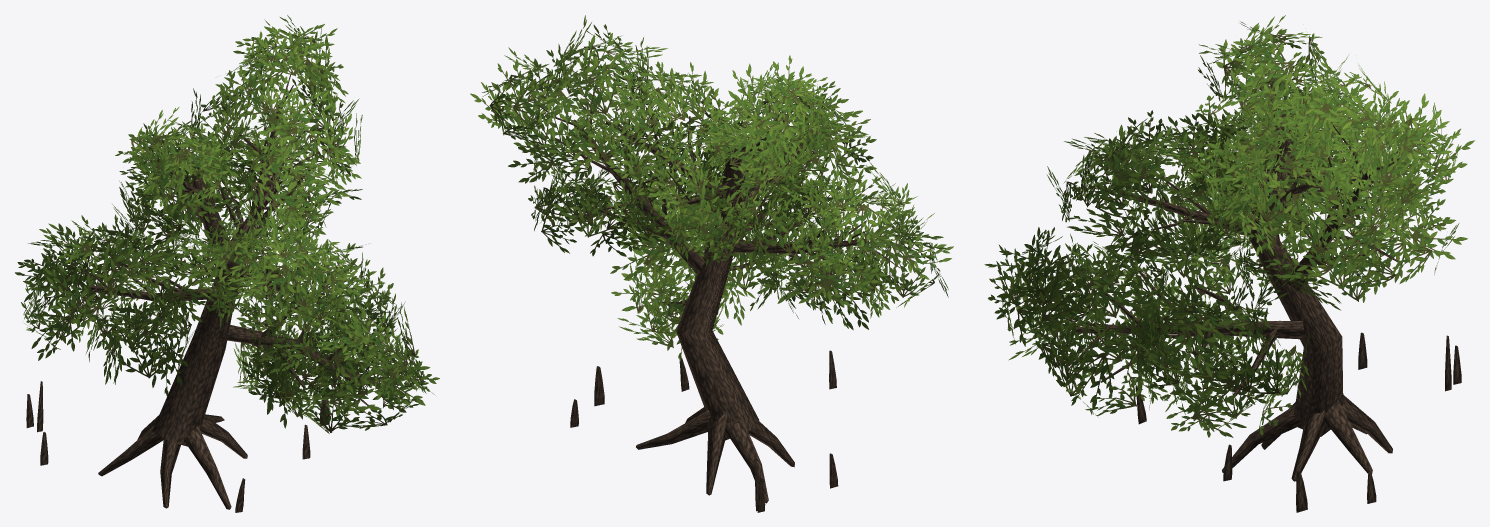
The model's file is Oak_04.lod2.glb.
3 views of the same model, side by side, from view 1: azimuth 30°, elevation 25°; view 2: azimuth 150°, elevation 25°; view 3: azimuth 270°, elevation 25° (orthographic). The views are drawn at different scales.
Parts seen in each view (by area): view 1: Leaves, Trunk; view 2: Leaves, Trunk; view 3: Leaves, Trunk.
Boxes of the visible parts, x1,y1,x2,y2 form: Leaves: [15, 15, 439, 433]; Trunk: [26, 72, 407, 512]; Leaves: [470, 15, 953, 361]; Trunk: [537, 74, 900, 512]; Leaves: [984, 15, 1474, 437]; Trunk: [1045, 77, 1461, 512].
Size of the model in its own units: 12.47 by 13.3 by 12.48.
Materials: 2 (2 with a texture image).
